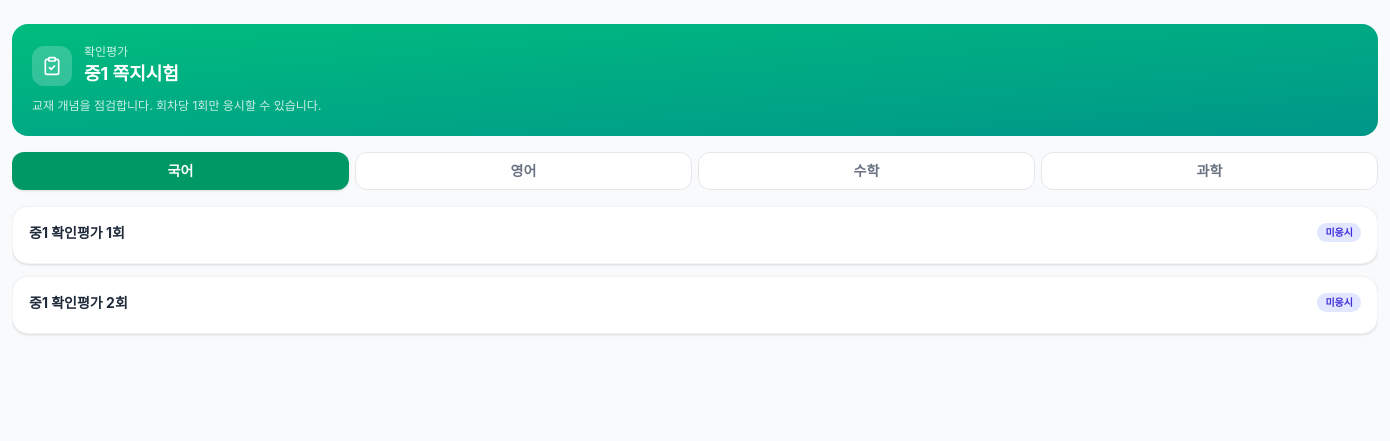
Test case: QuizTab draft protection › 저장된 초안이 있으면 같은 회차를 열 때 답안과 문항 위치를 복구한다
Click the text "중1 확인평가 1회" at (77, 232), box x1=29 y1=222 x2=125 y2=242
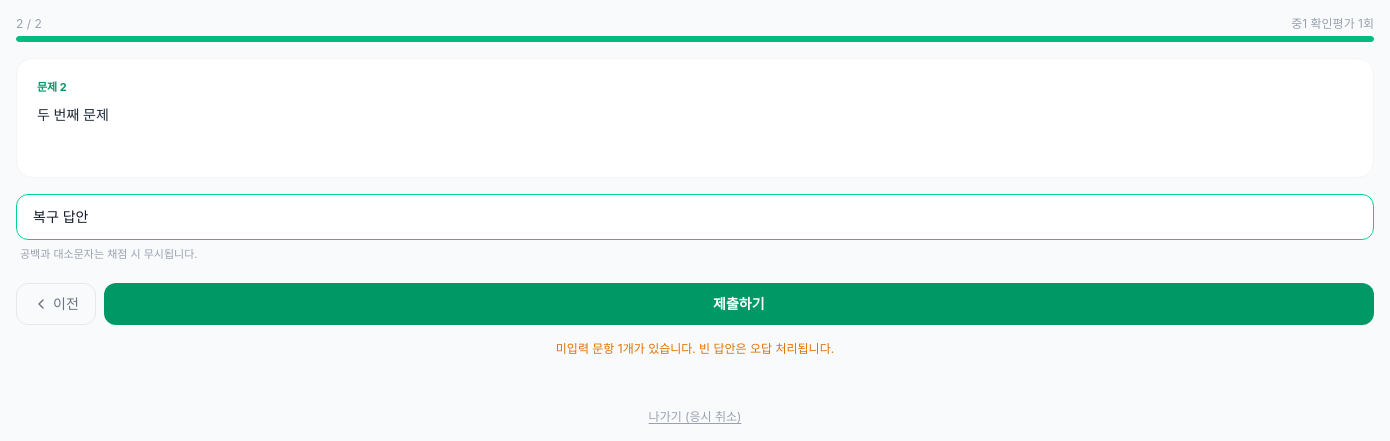
Expected: the text "두 번째 문제" is shown, x1=37 y1=106 x2=109 y2=122
Expected: the text "2 / 2" is shown, x1=16 y1=16 x2=42 y2=32
Expected: the field with placeholder "정답을 입력하세요" holds "복구 답안", x1=16 y1=194 x2=1374 y2=240
